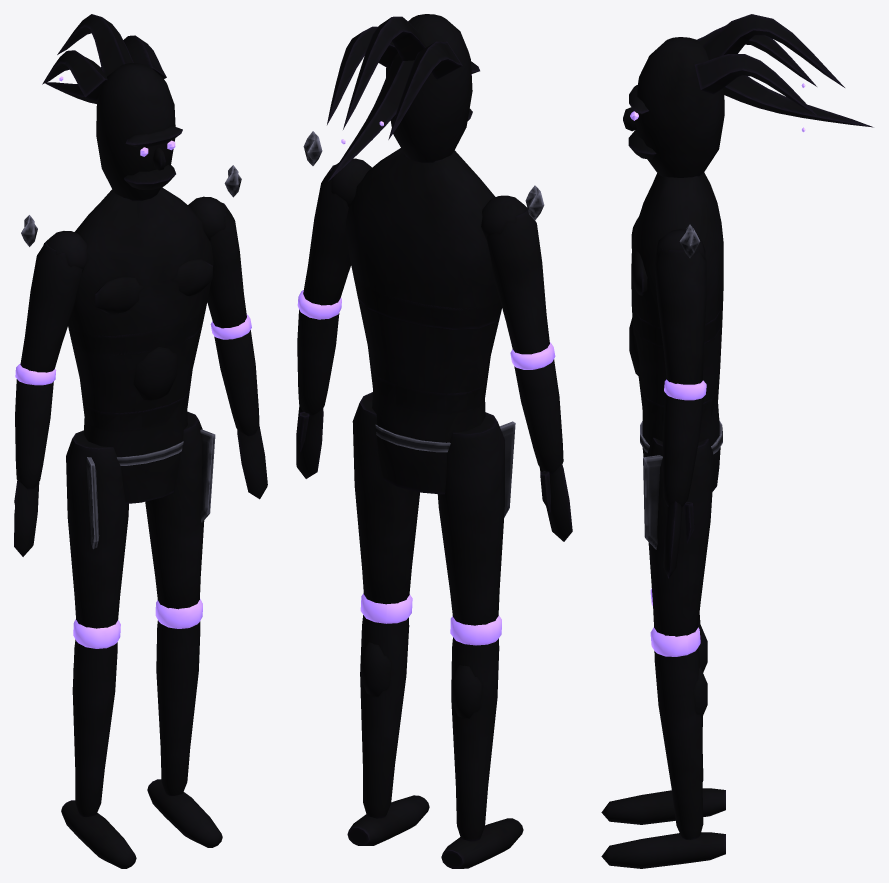
Rendered from underworld-surtling-umbral-masculine.glb.
The picture shows the model from 3 angles, left to right: view 1: azimuth 30°, elevation 25°; view 2: azimuth 150°, elevation 25°; view 3: azimuth 270°, elevation 25°; orthographic projection. The views are drawn at different scales.
Parts seen in each view (by area): view 1: Chest.chest, LeftUpperLeg.thigh, Spine.abdomen, Head.head, RightUpperLeg.thigh, LeftLowerLeg.shin, RightLowerLeg.shin, Hips.pelvis, LeftUpperArm.upper-arm, LeftLowerArm.forearm, RightUpperArm.upper-arm, RightLowerArm.forearm (+21 smaller); view 2: Chest.chest, LeftUpperLeg.thigh, Spine.abdomen, RightUpperLeg.thigh, Hips.pelvis, Head.head, LeftLowerLeg.shin, RightLowerLeg.shin, LeftUpperArm.upper-arm, RightUpperArm.upper-arm, LeftLowerArm.forearm, RightLowerArm.forearm (+18 smaller); view 3: Head.head, Chest.chest, RightUpperLeg.thigh, RightLowerLeg.shin, RightUpperArm.upper-arm, Spine.abdomen, RightLowerArm.forearm, RightFoot.foot, Head.smoke-0, LeftFoot.foot, Head.smoke-2, Head.smoke-3 (+8 smaller).
Part boxes in pixels (x1=…): Chest.chest: x1=68, y1=187, x2=213, y2=355; LeftUpperLeg.thigh: x1=66, y1=430, x2=128, y2=628; Spine.abdomen: x1=70, y1=316, x2=201, y2=430; Head.head: x1=96, y1=63, x2=175, y2=200; RightUpperLeg.thigh: x1=145, y1=412, x2=204, y2=609; LeftLowerLeg.shin: x1=72, y1=639, x2=117, y2=816; RightLowerLeg.shin: x1=156, y1=620, x2=200, y2=795; Hips.pelvis: x1=82, y1=390, x2=189, y2=503; LeftUpperArm.upper-arm: x1=20, y1=242, x2=82, y2=372; LeftLowerArm.forearm: x1=15, y1=379, x2=53, y2=489; RightUpperArm.upper-arm: x1=207, y1=202, x2=246, y2=328; RightLowerArm.forearm: x1=214, y1=330, x2=259, y2=436; Chest.chest: x1=345, y1=148, x2=501, y2=329; LeftUpperLeg.thigh: x1=437, y1=412, x2=504, y2=625; Spine.abdomen: x1=358, y1=292, x2=500, y2=413; RightUpperLeg.thigh: x1=352, y1=392, x2=419, y2=604; Hips.pelvis: x1=370, y1=369, x2=487, y2=494; Head.head: x1=386, y1=14, x2=472, y2=162; LeftLowerLeg.shin: x1=451, y1=637, x2=499, y2=841; RightLowerLeg.shin: x1=360, y1=615, x2=409, y2=818; LeftUpperArm.upper-arm: x1=487, y1=209, x2=549, y2=354; RightUpperArm.upper-arm: x1=303, y1=164, x2=351, y2=305; LeftLowerArm.forearm: x1=514, y1=359, x2=563, y2=474; RightLowerArm.forearm: x1=297, y1=309, x2=339, y2=416; Head.head: x1=635, y1=37, x2=724, y2=177; Chest.chest: x1=631, y1=172, x2=723, y2=346; RightUpperLeg.thigh: x1=646, y1=437, x2=714, y2=636; RightLowerLeg.shin: x1=654, y1=647, x2=703, y2=839; RightUpperArm.upper-arm: x1=654, y1=248, x2=706, y2=384; Spine.abdomen: x1=632, y1=307, x2=722, y2=423; RightLowerArm.forearm: x1=662, y1=393, x2=703, y2=507; RightFoot.foot: x1=601, y1=832, x2=725, y2=868; Head.smoke-0: x1=703, y1=14, x2=844, y2=87; LeftFoot.foot: x1=601, y1=788, x2=725, y2=824; Head.smoke-2: x1=694, y1=54, x2=816, y2=115; Head.smoke-3: x1=722, y1=75, x2=873, y2=127.
Size of the model in its own units: 0.6478 by 1.94 by 0.577.
3 materials, 3 textured.
